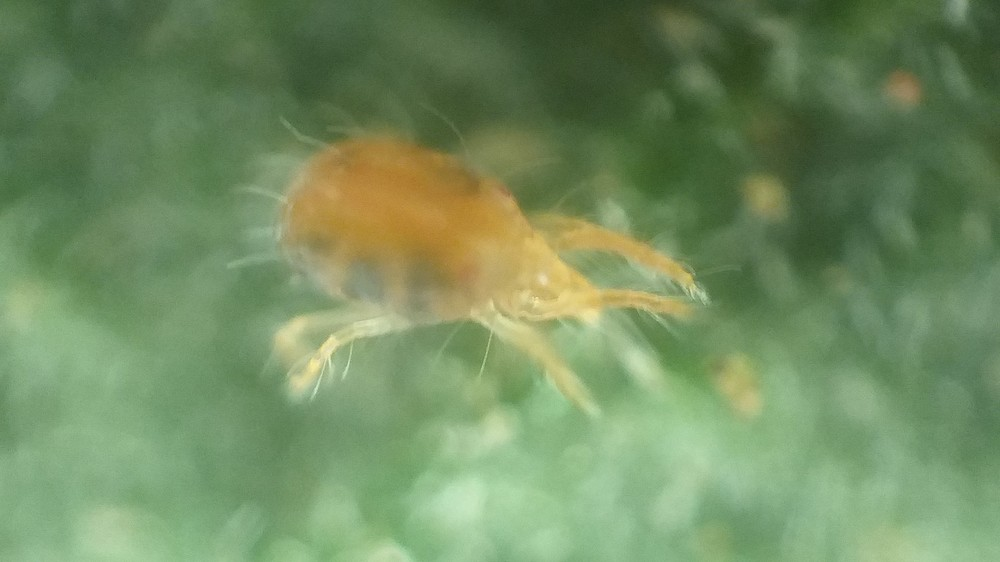Aracnido Rojo: (239, 115, 723, 446)
